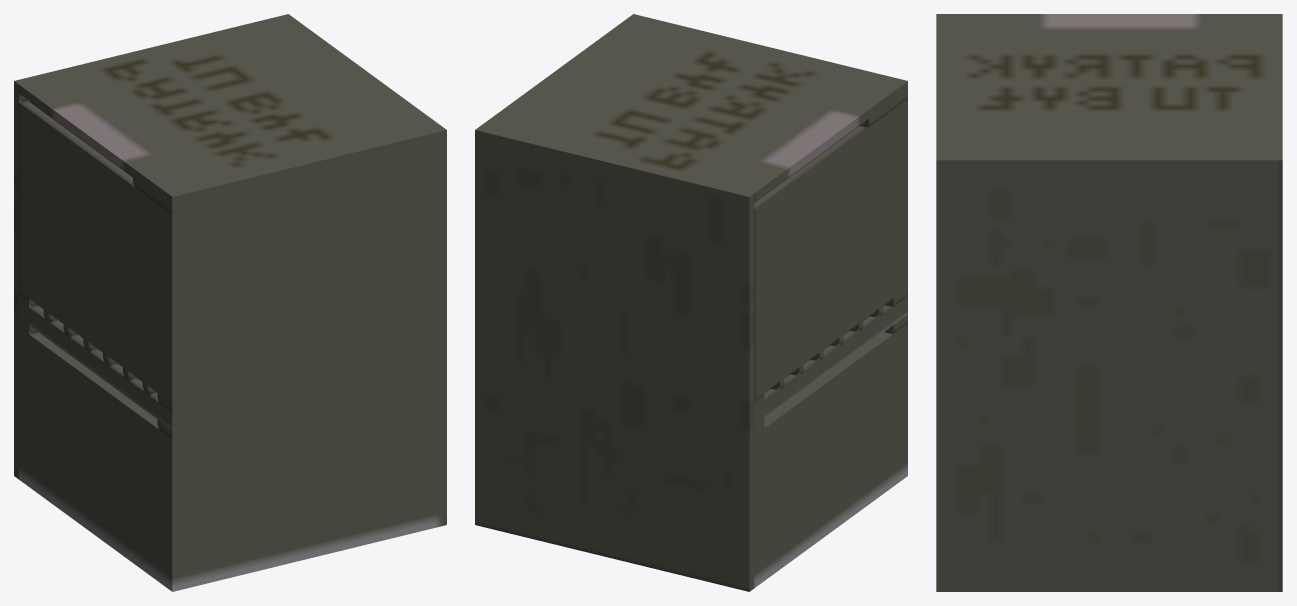
The model's file is 6_rs_easter_egg_tyl.dae.
The picture shows the model from 3 angles, left to right: view 1: azimuth 30°, elevation 25°; view 2: azimuth 150°, elevation 25°; view 3: azimuth 270°, elevation 25°; orthographic projection. The views are drawn at different scales.
Parts seen in each view (by area): view 1: Content; view 2: Content; view 3: Content.
Boxes of the visible parts, x1,y1,x2,y2 form: Content: [14, 14, 446, 591]; Content: [475, 14, 907, 591]; Content: [936, 14, 1282, 591].
Size of the model in its own units: 32 by 44 by 32.
1 material, 1 textured.
